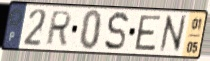0: (78, 8, 104, 52)
2: (22, 8, 48, 47)
E: (134, 14, 163, 53)
N: (158, 13, 188, 55)
R: (44, 10, 74, 48)
S: (103, 10, 130, 53)
